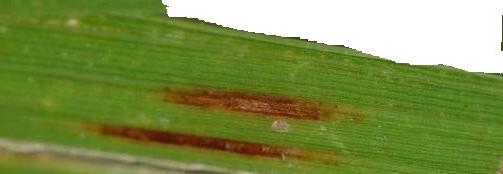leaf_smut: (94, 76, 364, 166)
